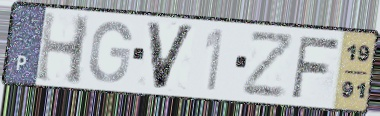1: (203, 26, 226, 94)
F: (289, 34, 342, 100)
G: (86, 19, 134, 85)
H: (33, 9, 93, 87)
V: (144, 19, 198, 91)
Z: (242, 32, 297, 99)
